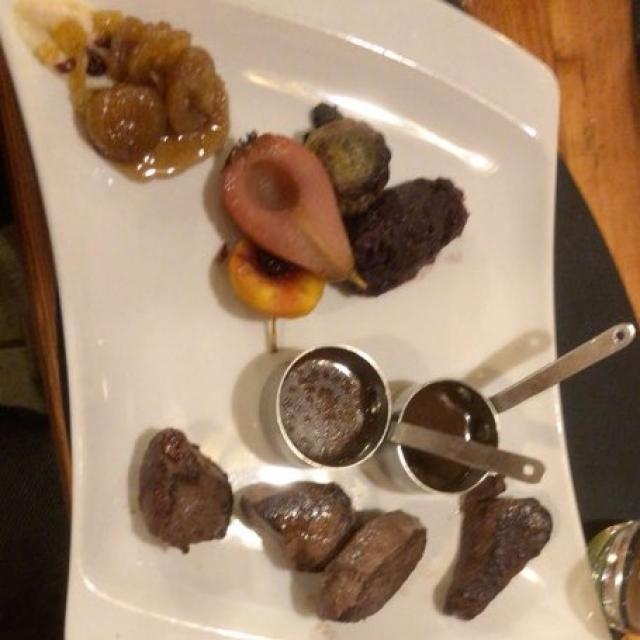brussel-sprouts: (321, 109, 481, 289)
meat: (137, 433, 551, 626)
nuts: (40, 12, 227, 178)
sauce: (290, 356, 386, 461)
